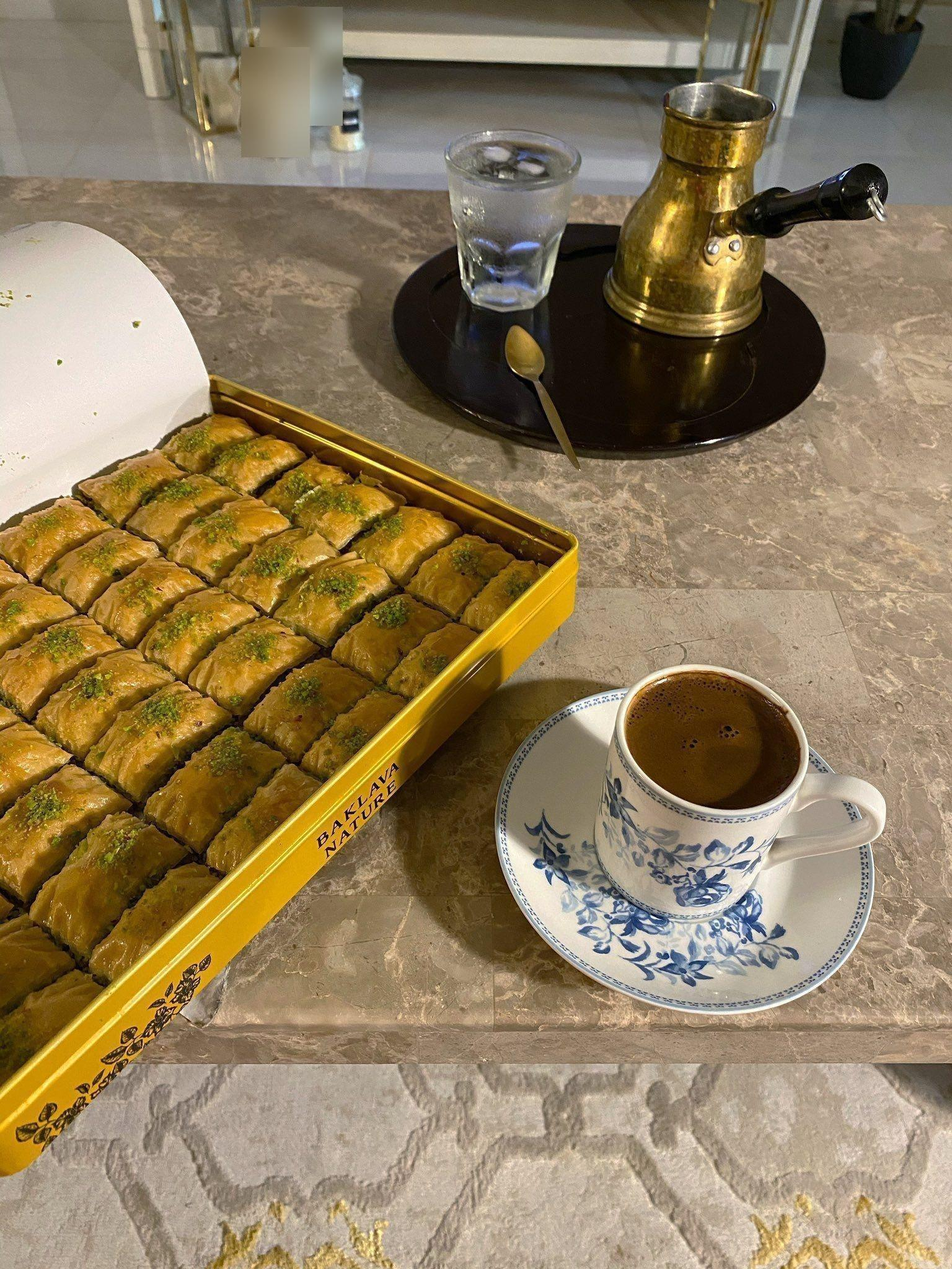cup-handle: (593, 662, 886, 920)
glass-normal: (443, 127, 582, 315)
